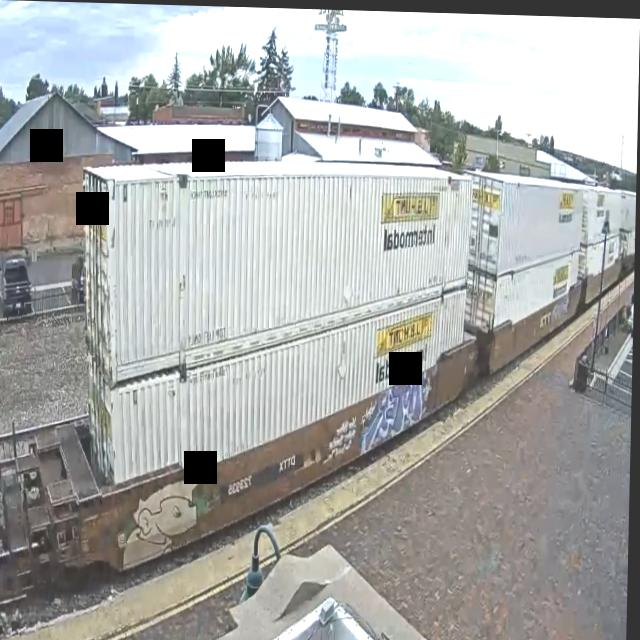container: (79, 145, 477, 400), (82, 272, 471, 510), (464, 161, 587, 281), (465, 242, 583, 333)
flatcar: (19, 313, 484, 612), (478, 270, 584, 383)
